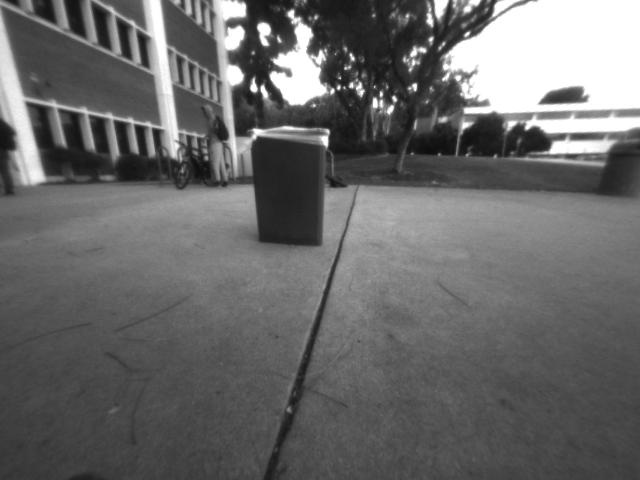trashcan_open: (239, 115, 343, 256)
